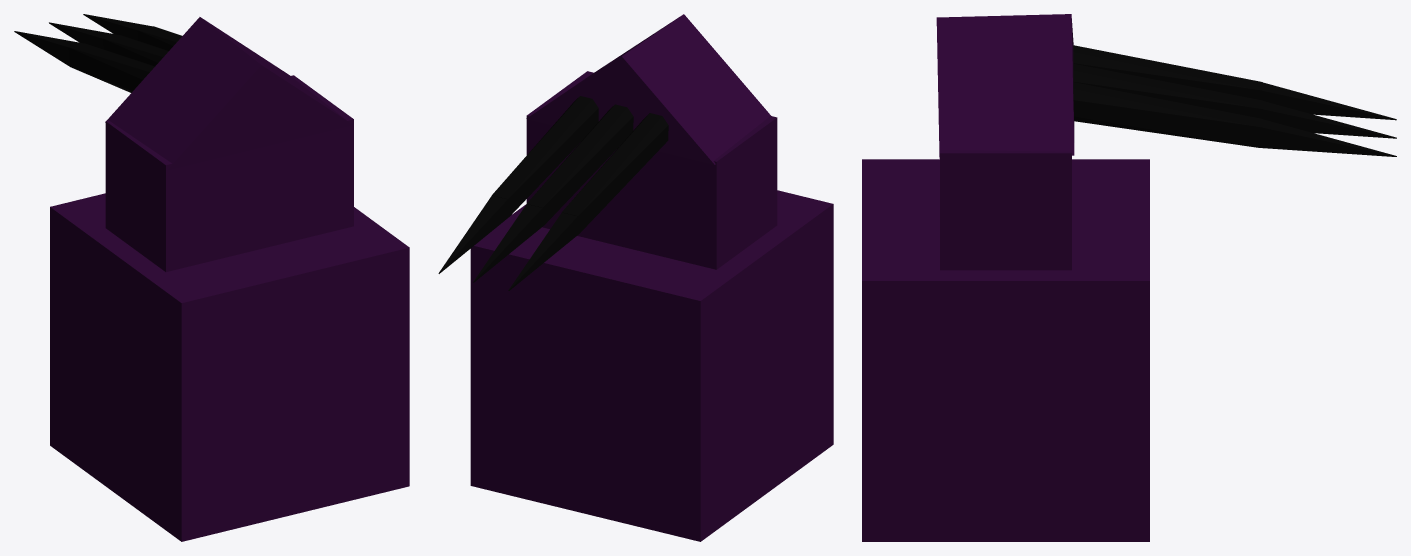
The model's file is protectiontower1_level3.fbx.
The picture shows the model from 3 angles, left to right: view 1: azimuth 30°, elevation 25°; view 2: azimuth 150°, elevation 25°; view 3: azimuth 270°, elevation 25°; orthographic projection. The views are drawn at different scales.
Parts seen in each view (by area): view 1: Cube, Cube.001, Cube.002, Cube.003; view 2: Cube, Cube.001, Cube.002, Cube.003; view 3: Cube, Cube.003, Cube.002, Cube.001.
Part boxes in pixels (x1,y1,x2,y2): Cube: [50, 17, 409, 541]; Cube.001: [14, 31, 154, 92]; Cube.002: [49, 22, 168, 66]; Cube.003: [83, 14, 181, 50]; Cube: [470, 14, 833, 541]; Cube.001: [508, 113, 668, 290]; Cube.002: [473, 104, 633, 282]; Cube.003: [438, 96, 598, 273]; Cube: [862, 14, 1149, 541]; Cube.003: [1073, 82, 1396, 156]; Cube.002: [1073, 63, 1396, 138]; Cube.001: [1073, 45, 1396, 120].
Bounding box in the file's own units: 200 × 358 × 372.
